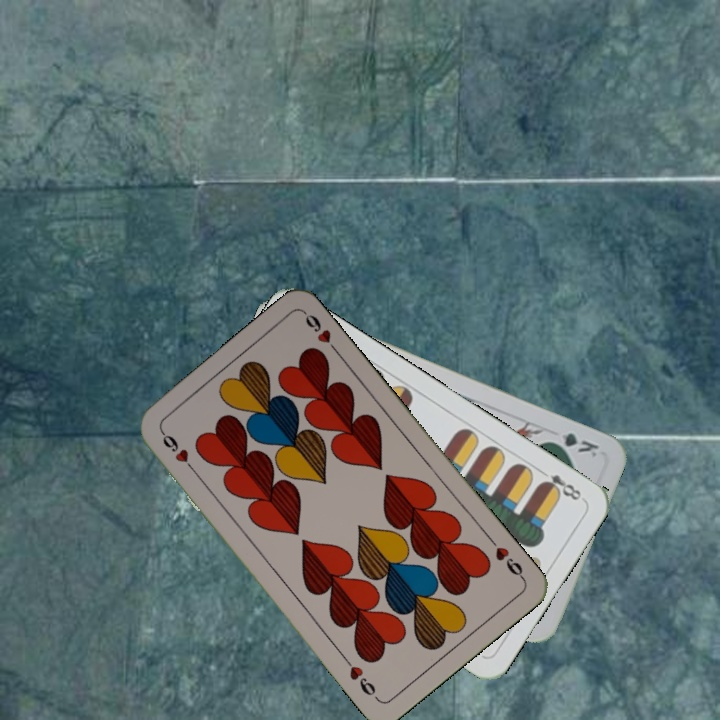E8: (534, 465, 584, 503)
GK: (544, 428, 602, 461)
H9: (157, 427, 200, 477), (485, 533, 527, 583)
